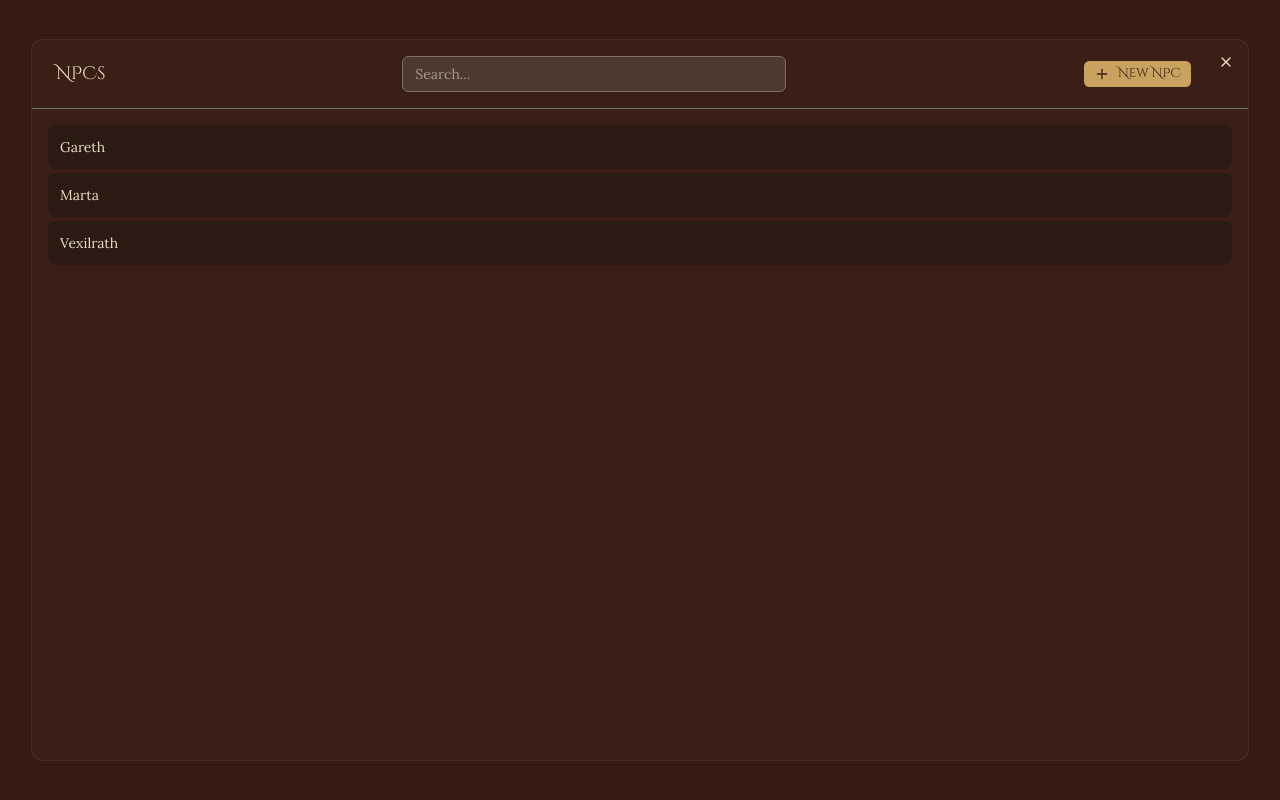
MasterDetailModal — Search › searches across all string/number fields by default
The width and height of the screenshot is (1280, 800).
Type "bold" into the search field with placeholder "Search..." at (594, 74), box top-left (402, 56), bottom-right (786, 92)
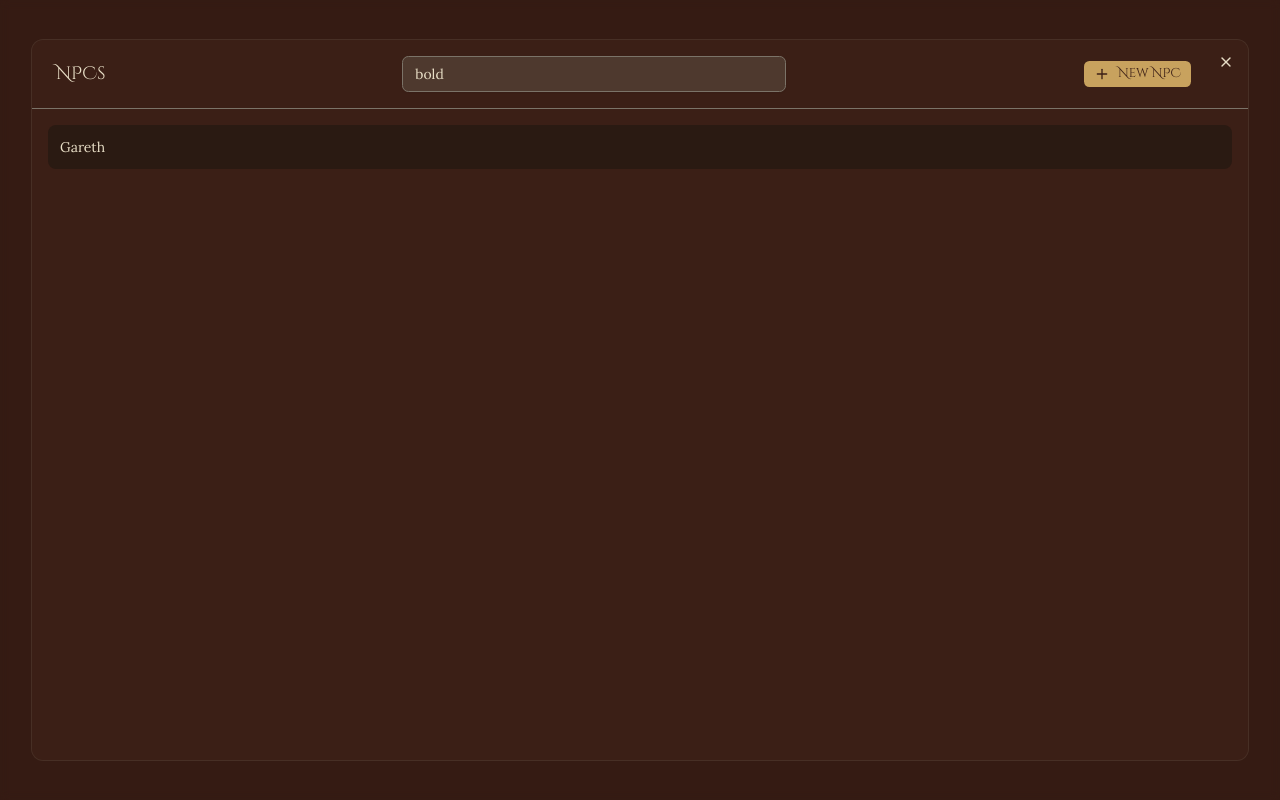
Expected: the text "Gareth" is shown, top-left (60, 138), bottom-right (105, 156)
Expected: the text "Marta" is gone
Replace the text in the search field with placeholder "Search..." with "merchant" at (594, 74), box top-left (402, 56), bottom-right (786, 92)
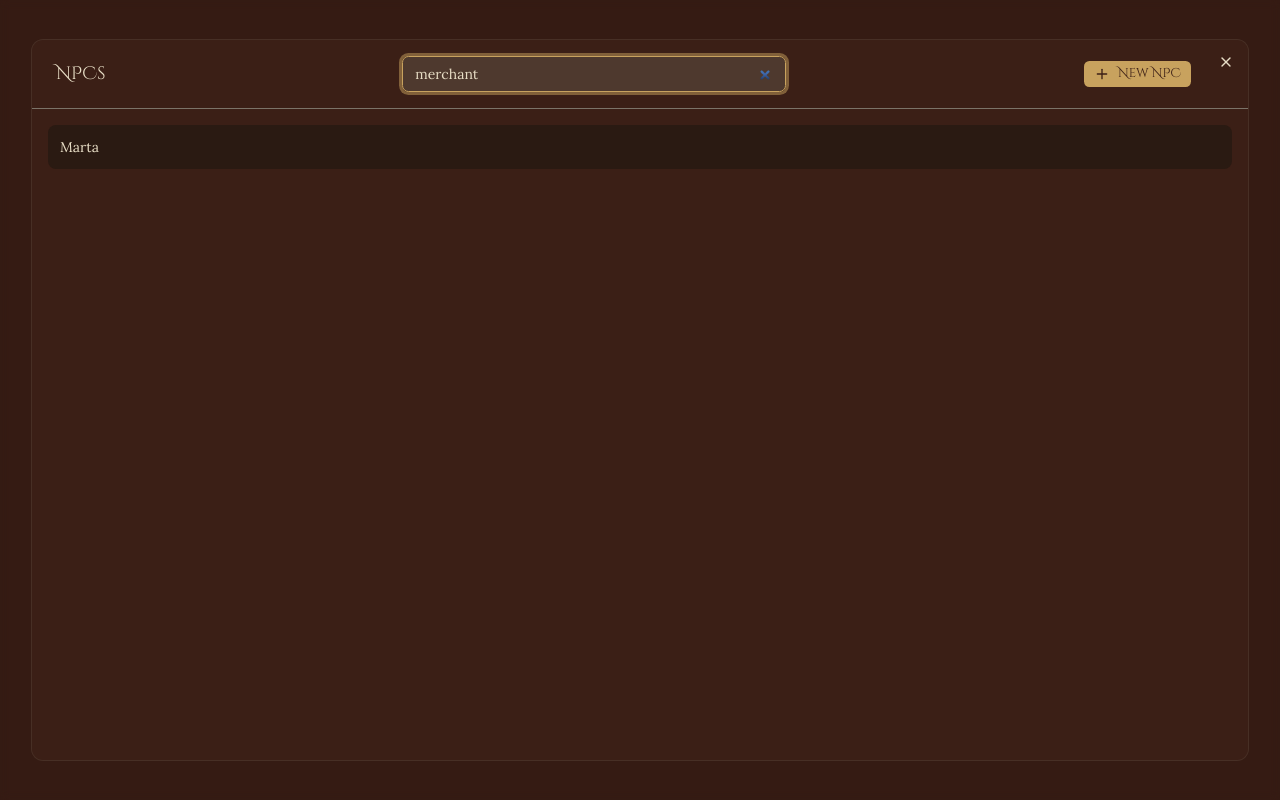
Expected: the text "Marta" is shown, top-left (60, 138), bottom-right (99, 156)
Expected: the text "Gareth" is gone
